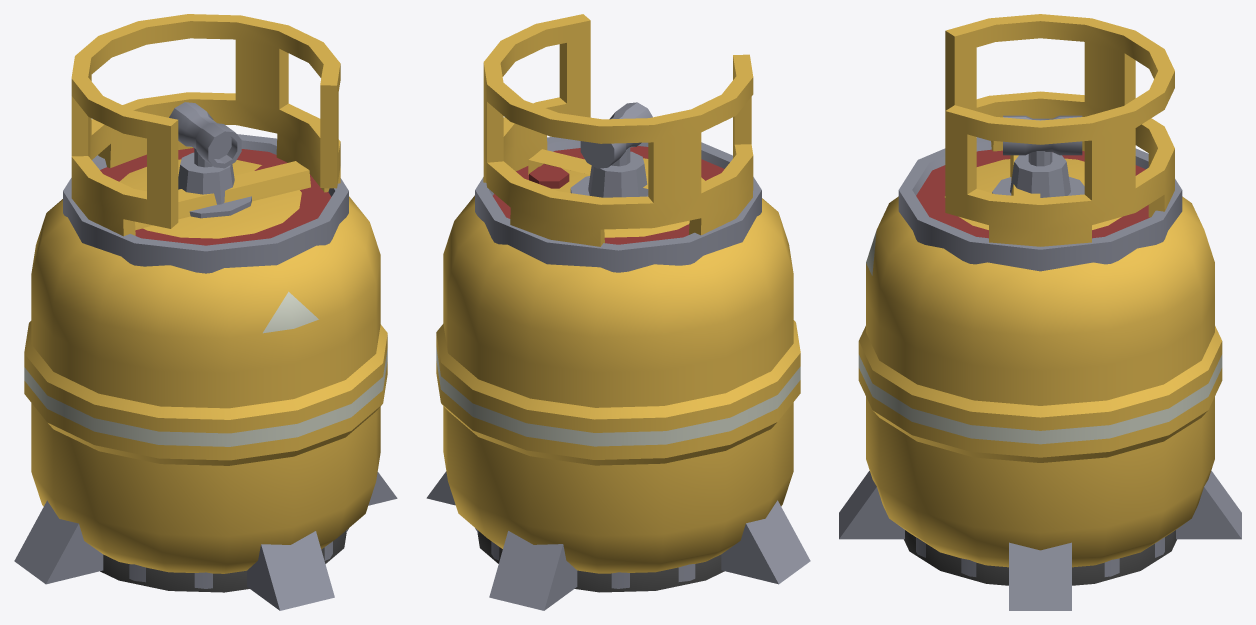
Rendered from props.glb.
3 renders of one model, left to right at view 1: azimuth 30°, elevation 25°; view 2: azimuth 150°, elevation 25°; view 3: azimuth 270°, elevation 25°, orthographic.
Parts seen in each view (by area): view 1: GasTank, ExplodingBarrel, Landmine, Sign; view 2: GasTank, Landmine, ExplodingBarrel, Sign; view 3: GasTank, ExplodingBarrel, Landmine.
Part boxes in pixels (bbox=[...]): GasTank: bbox=[24, 14, 387, 573]; ExplodingBarrel: bbox=[63, 134, 348, 588]; Landmine: bbox=[14, 472, 397, 610]; Sign: bbox=[135, 161, 310, 230]; GasTank: bbox=[436, 14, 800, 573]; Landmine: bbox=[426, 471, 810, 610]; ExplodingBarrel: bbox=[475, 137, 761, 588]; Sign: bbox=[528, 149, 648, 188]; GasTank: bbox=[858, 14, 1222, 567]; ExplodingBarrel: bbox=[898, 137, 1182, 576]; Landmine: bbox=[839, 471, 1241, 610].
Size of the model in its own units: 1.11 by 1.4 by 1.11.
